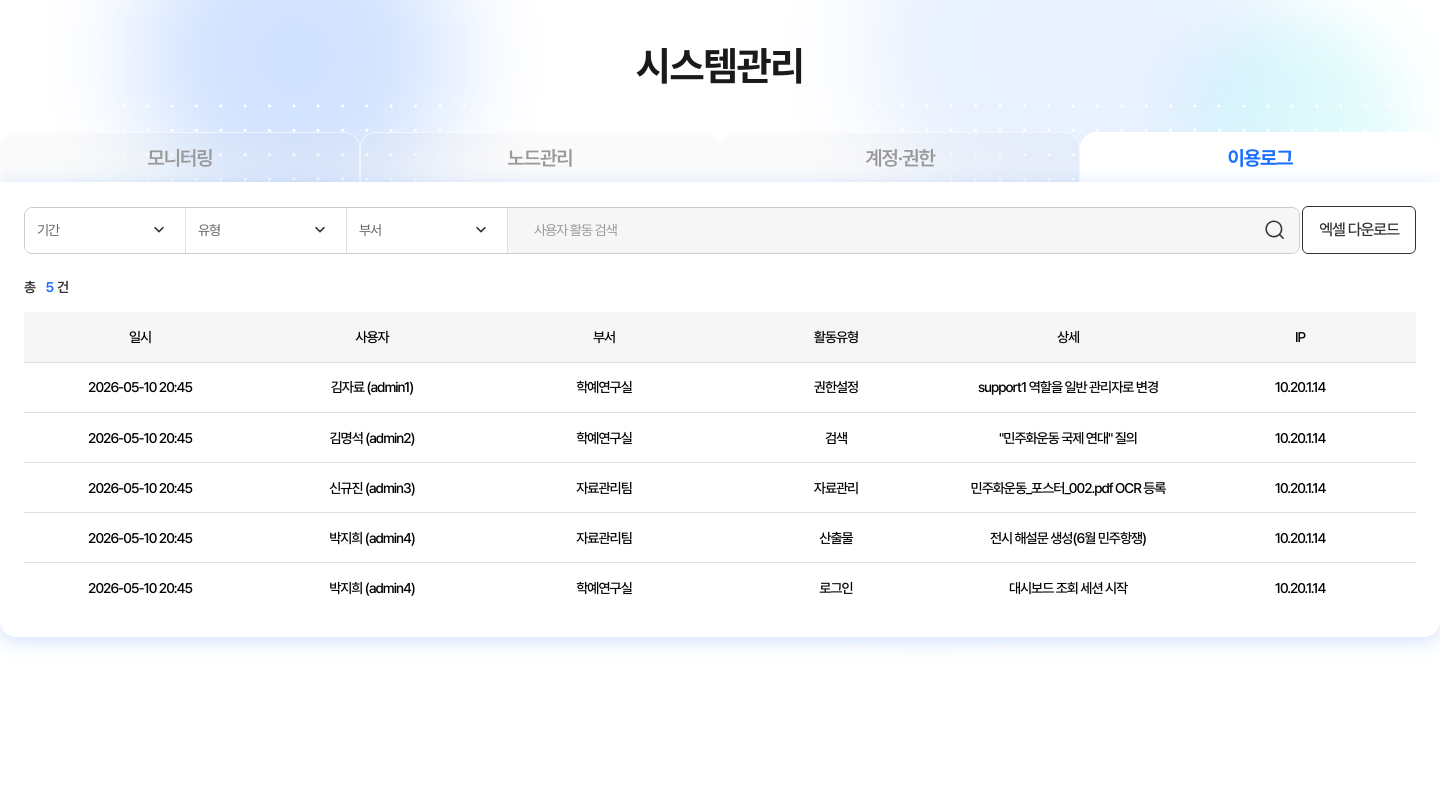
Test case: 필터 제출은 준비중 — 토스트만 뜨고 목록은 그대로다(D2b)
The width and height of the screenshot is (1440, 810).
Click the button named "검색": (1275, 230) top-left (1263, 218), bottom-right (1287, 242)
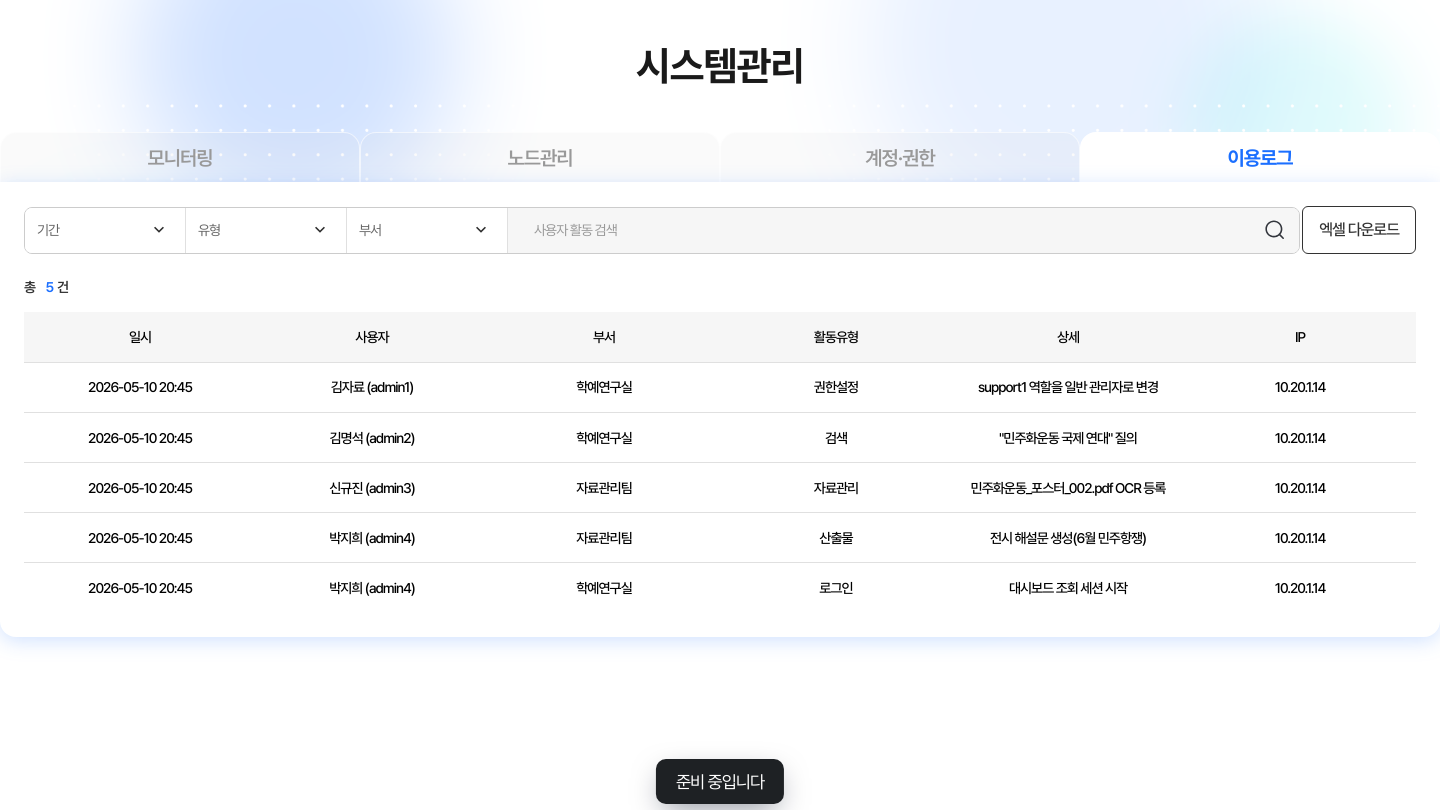
Expected: the text "support1 역할을 일반 관리자로 변경" is shown, top-left (952, 363), bottom-right (1184, 413)
Now the message reads "준비 중입니다", box top-left (676, 771), bottom-right (764, 792)
